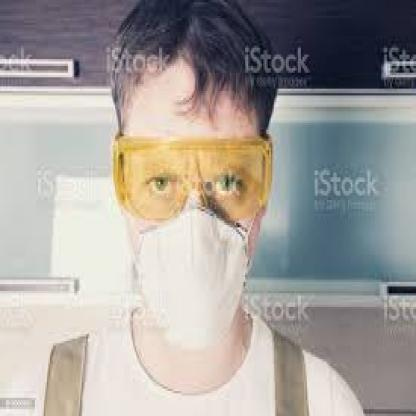goggles: (110, 134, 277, 219)
mask: (124, 218, 254, 338)
